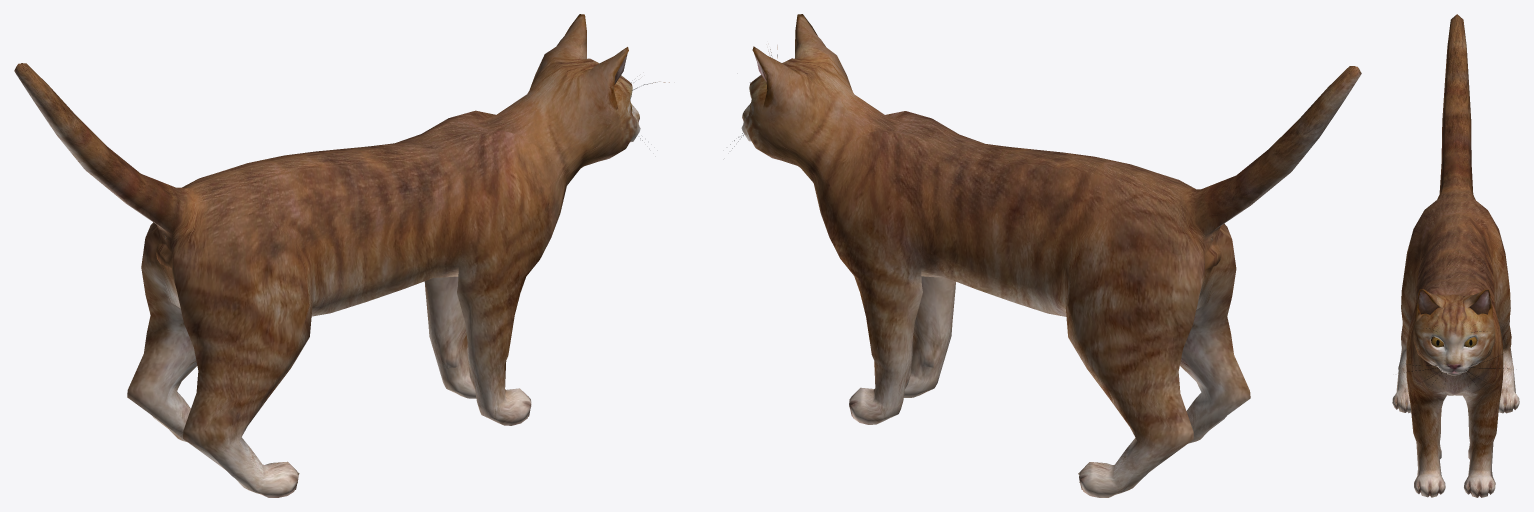
File: cat.dae
3 views of the same model, side by side, from view 1: azimuth 30°, elevation 25°; view 2: azimuth 150°, elevation 25°; view 3: azimuth 270°, elevation 25° (orthographic). The views are drawn at different scales.
Visible parts, largest first — view 1: Cat; view 2: Cat; view 3: Cat.
Boxes of the visible parts, bbox=[...] form: Cat: bbox=[14, 14, 669, 497]; Cat: bbox=[730, 14, 1361, 497]; Cat: bbox=[1392, 14, 1519, 497].
Bounding box in the file's own units: 4.92 × 1.26 × 3.41.
Materials: 1 (1 with a texture image).
